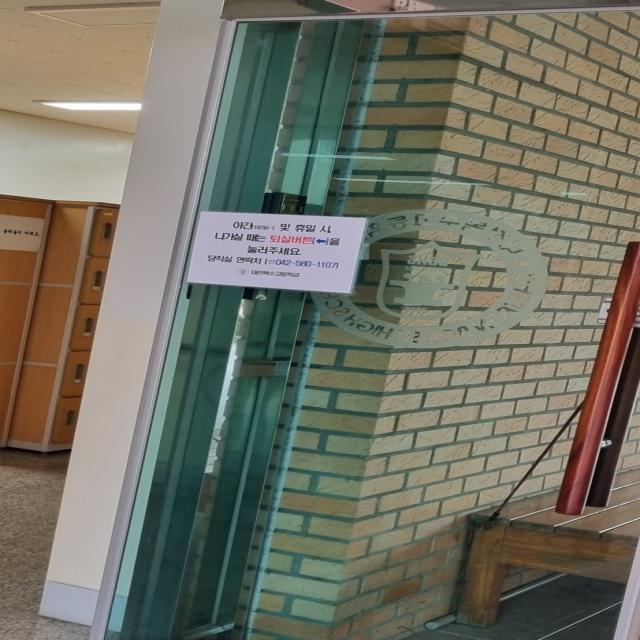logo: (308, 207, 550, 350), (234, 266, 250, 276)
